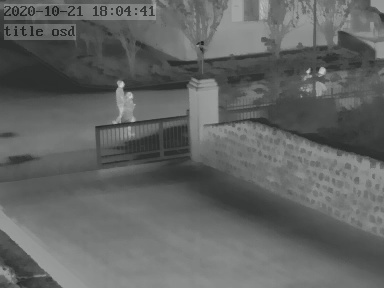person: (115, 80, 136, 125)
